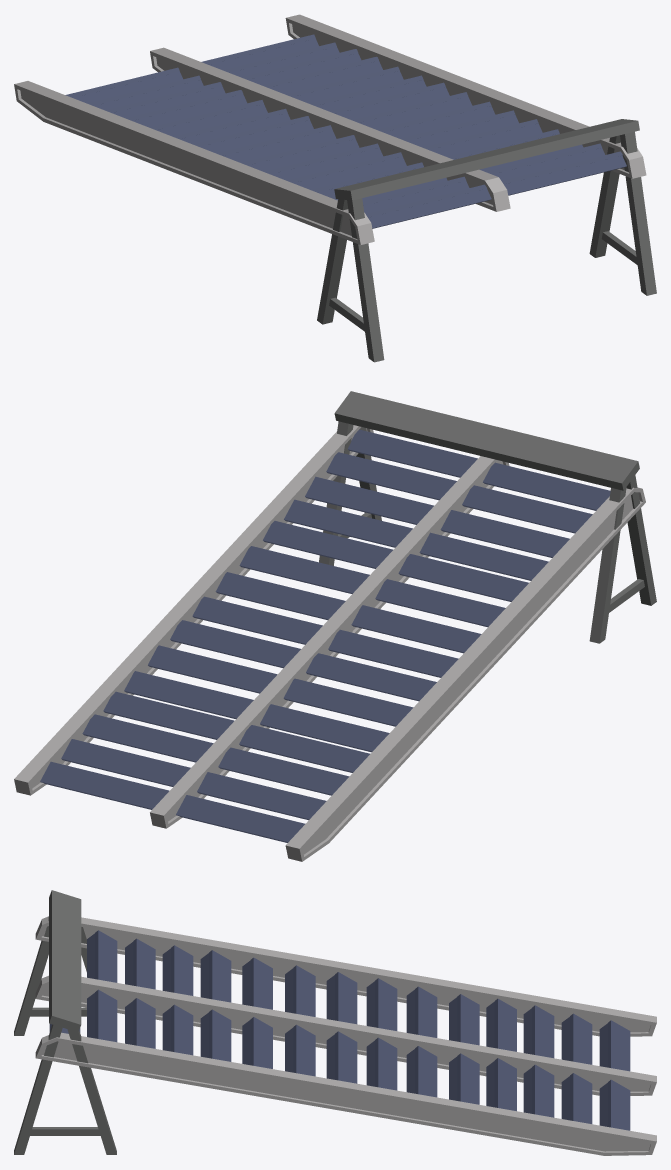
File: Ramp.fbx
3 renders of one model, top to bottom at view 1: azimuth 30°, elevation 25°; view 2: azimuth 150°, elevation 25°; view 3: azimuth 270°, elevation 25°, orthographic. The views are drawn at different scales.
Parts seen in each view (by area): view 1: Ramp; view 2: Ramp; view 3: Ramp.
Boxes of the visible parts, x1,y1,x2,y2 form: Ramp: [14, 14, 656, 362]; Ramp: [14, 391, 656, 861]; Ramp: [14, 890, 656, 1155].
Size of the model in its own units: 276 by 144 by 597.
